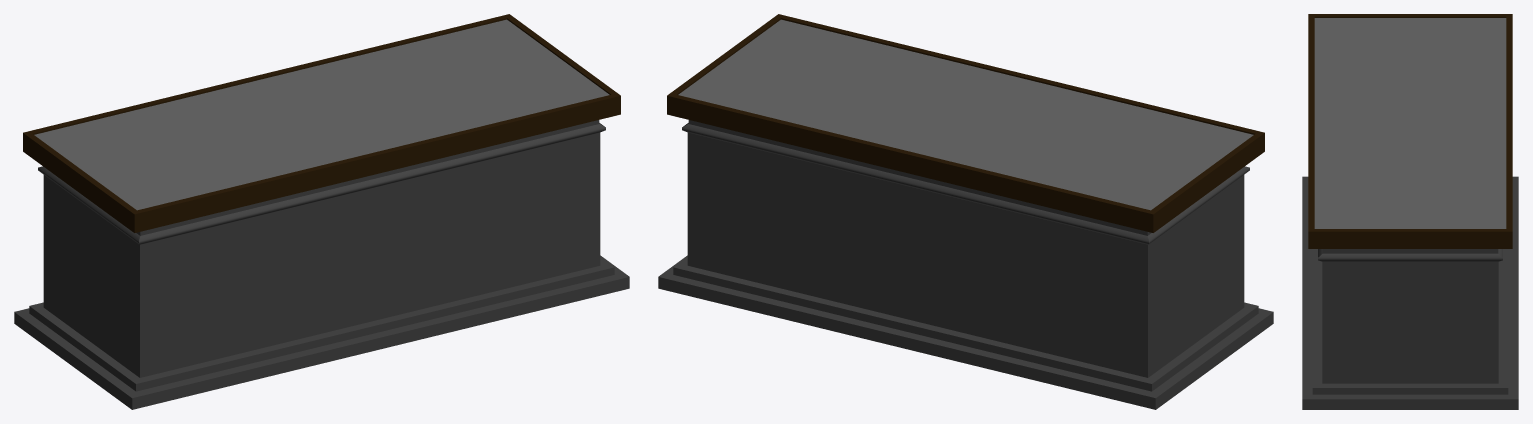
Rendered from Tumba.fbx.
The picture shows the model from 3 angles, left to right: view 1: azimuth 30°, elevation 25°; view 2: azimuth 150°, elevation 25°; view 3: azimuth 270°, elevation 25°; orthographic projection. The views are drawn at different scales.
Visible parts, largest first — view 1: Tumba; view 2: Tumba; view 3: Tumba.
Part boxes in pixels (x1,y1,x2,y2): Tumba: [14, 14, 629, 409]; Tumba: [658, 14, 1273, 409]; Tumba: [1302, 14, 1518, 409].
Size of the model in its own units: 490 by 180 by 201.
